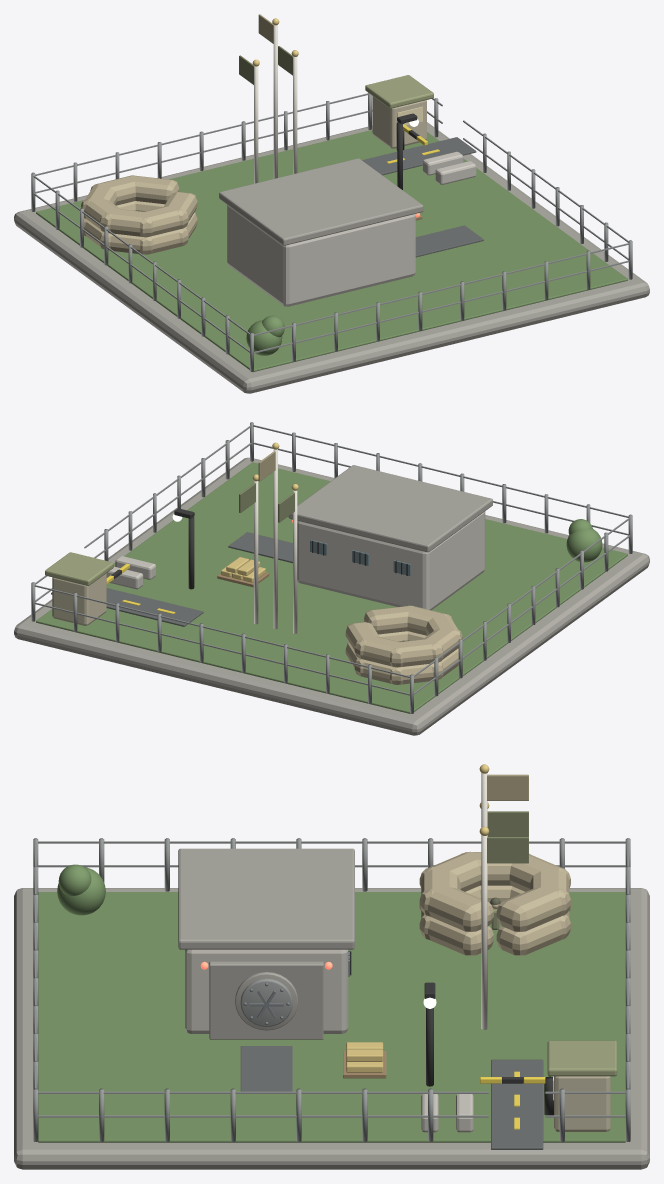
Rendered from goldvault_4.glb.
3 renders of one model, top to bottom at view 1: azimuth 30°, elevation 25°; view 2: azimuth 150°, elevation 25°; view 3: azimuth 270°, elevation 25°, orthographic. The views are drawn at different scales.
Parts seen in each view (by area): view 1: Cube.001, Cube, Cube.014, Cube.015, Cube.002, Cube.006, Cube.007, Cube.038, Cube.048, Cube.040, Cube.050, Cube.059 (+16 smaller); view 2: Cube.001, Cube, Cube.014, Cube.015, Cube.006, Cube.002, Cube.007, Cube.044, Cube.038, Cube.052, Cube.042, Sphere.016 (+19 smaller); view 3: Cube.001, Cube, Cube.015, Cube.016, Cube.014, Cube.002, Cube.006, Cube.007, Cube.038, Cube.040, Cube.052, Cylinder.002 (+20 smaller).
Boxes of the visible parts, bbox=[...] form: Cube.001: bbox=[36, 130, 627, 371]; Cube: bbox=[14, 122, 649, 393]; Cube.014: bbox=[227, 205, 415, 306]; Cube.015: bbox=[219, 158, 423, 245]; Cube.002: bbox=[362, 137, 476, 175]; Cube.006: bbox=[372, 96, 426, 148]; Cube.007: bbox=[365, 75, 433, 108]; Cube.038: bbox=[415, 225, 483, 257]; Cube.048: bbox=[100, 208, 153, 237]; Cube.040: bbox=[128, 175, 179, 204]; Cube.050: bbox=[140, 205, 188, 237]; Cube.059: bbox=[254, 260, 629, 353]; Cube.001: bbox=[36, 462, 627, 713]; Cube: bbox=[14, 457, 649, 735]; Cube.014: bbox=[297, 511, 485, 610]; Cube.015: bbox=[288, 465, 492, 552]; Cube.006: bbox=[52, 573, 106, 625]; Cube.002: bbox=[51, 588, 203, 626]; Cube.007: bbox=[45, 552, 113, 585]; Cube.044: bbox=[390, 638, 443, 667]; Cube.038: bbox=[228, 532, 292, 563]; Cube.052: bbox=[364, 605, 414, 634]; Cube.042: bbox=[354, 635, 404, 667]; Sphere.016: bbox=[566, 528, 602, 562]; Cube.001: bbox=[38, 892, 625, 1142]; Cube: bbox=[14, 888, 649, 1169]; Cube.015: bbox=[178, 848, 354, 949]; Cube.016: bbox=[209, 961, 323, 1039]; Cube.014: bbox=[185, 949, 348, 1033]; Cube.002: bbox=[491, 1059, 543, 1149]; Cube.006: bbox=[554, 1076, 610, 1131]; Cube.007: bbox=[547, 1040, 617, 1076]; Cube.038: bbox=[240, 1046, 292, 1091]; Cube.040: bbox=[496, 884, 570, 931]; Cube.052: bbox=[419, 887, 493, 931]; Cylinder.002: bbox=[240, 978, 292, 1026].
Bounding box in the file's own units: 2.92 × 1.39 × 2.92.
